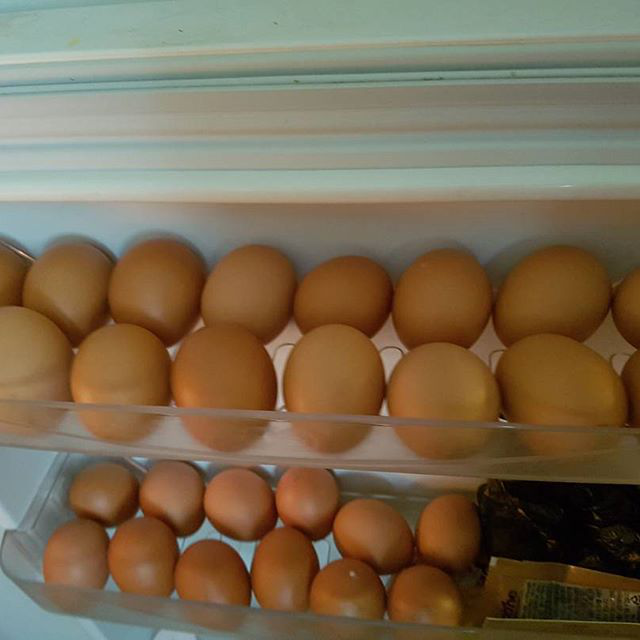egg: (3, 233, 640, 458), (43, 460, 480, 633)
